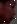without_mask: (1, 1, 17, 24)
